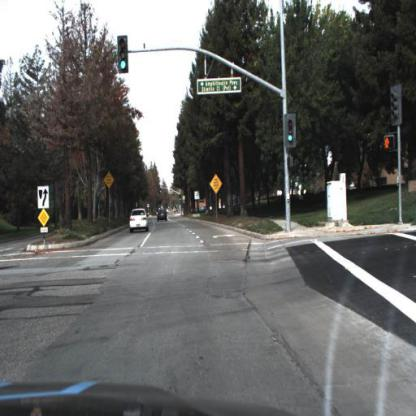car: (130, 208, 152, 235), (157, 207, 169, 223)
trafficLight-Green: (117, 35, 129, 74), (283, 114, 296, 149)
